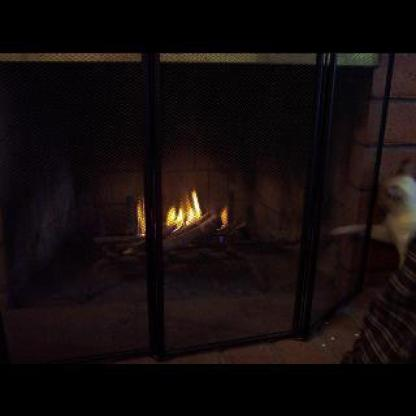fire: (131, 184, 233, 236)
